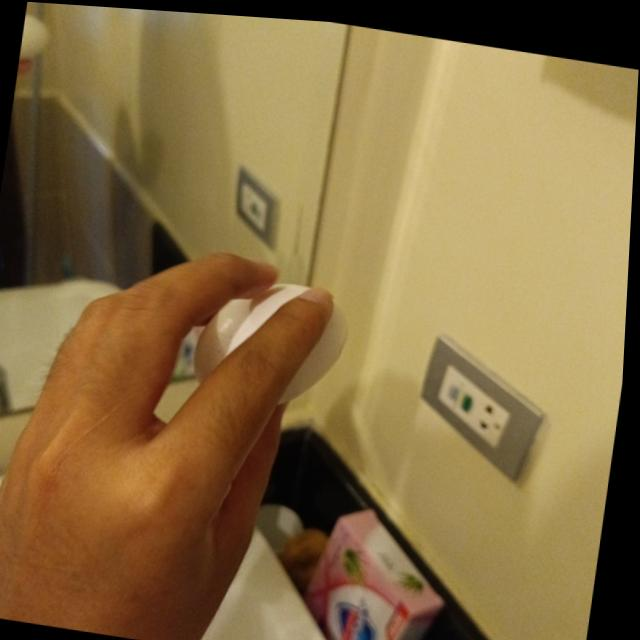egg: (192, 267, 355, 407)
